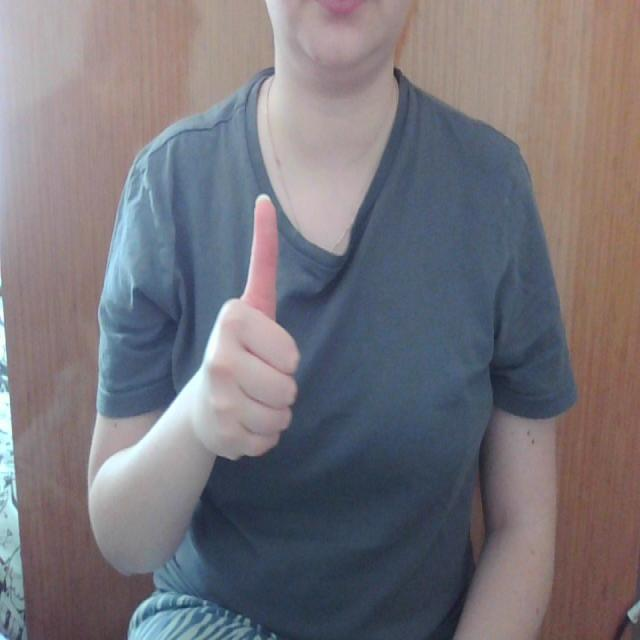Tamam: (194, 188, 310, 466)
